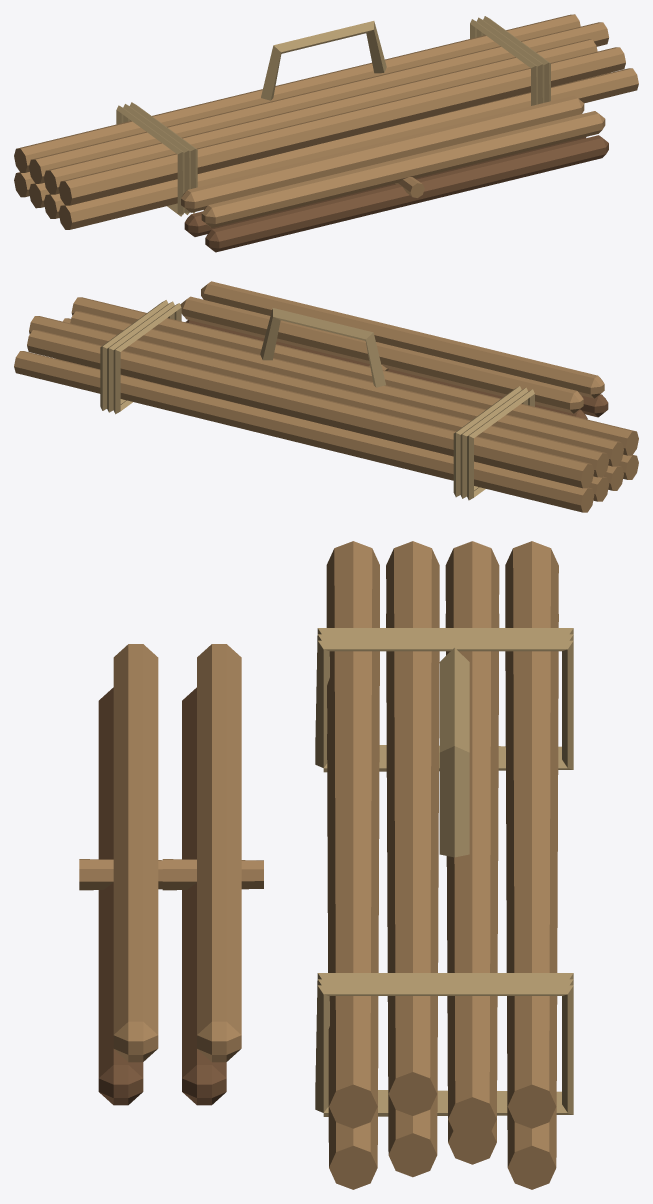
The picture shows the model from 3 angles, top to bottom: view 1: azimuth 30°, elevation 25°; view 2: azimuth 150°, elevation 25°; view 3: azimuth 270°, elevation 25°; orthographic projection. The views are drawn at different scales.
Visible parts, largest first — view 1: BA-0006 batched; view 2: BA-0006 batched; view 3: BA-0006 batched.
Boxes of the visible parts, bbox=[...] form: BA-0006 batched: bbox=[14, 14, 638, 252]; BA-0006 batched: bbox=[14, 281, 638, 512]; BA-0006 batched: bbox=[79, 541, 573, 1189].
Bounding box in the file's own units: 2.2 × 0.4336 × 0.8299.
